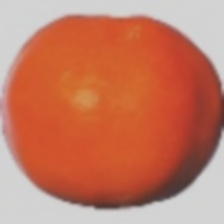tangerine: (25, 10, 187, 197)
